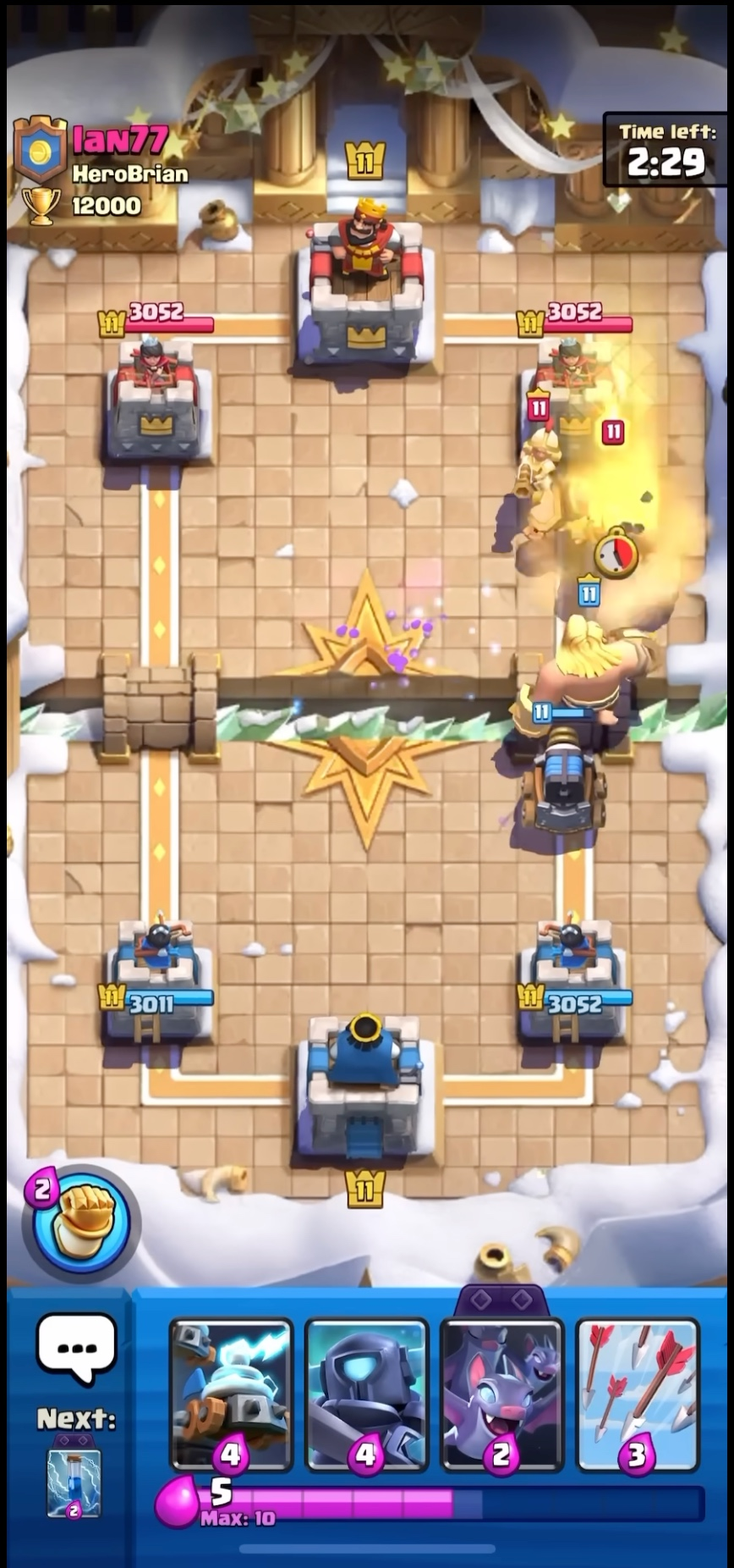hero-musketeer: (502, 388, 567, 514)
